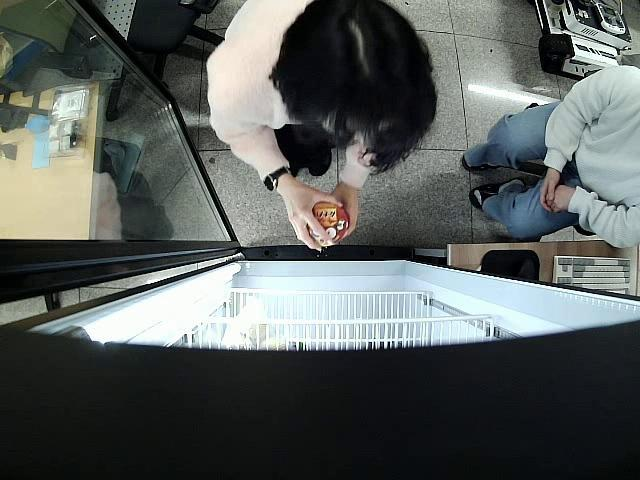06_nuguri_S: (308, 202, 350, 245)
